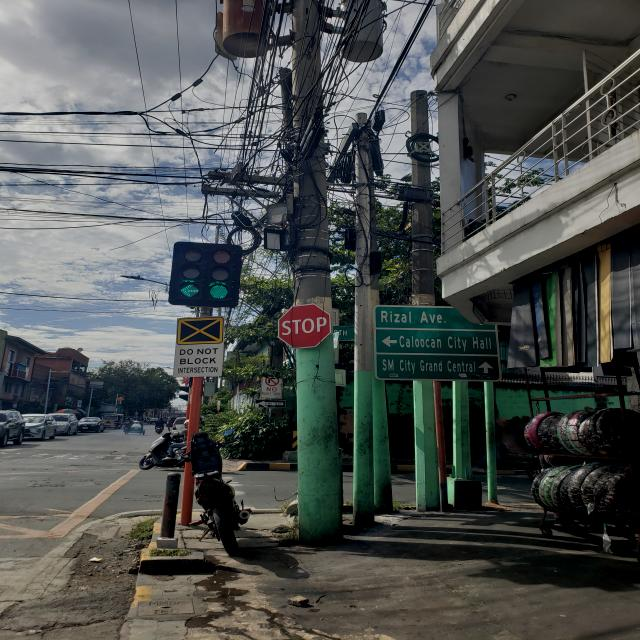stop-sign: (278, 303, 332, 349)
